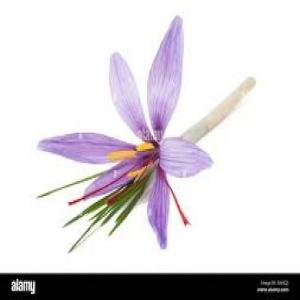Saffron: (44, 18, 213, 248)
